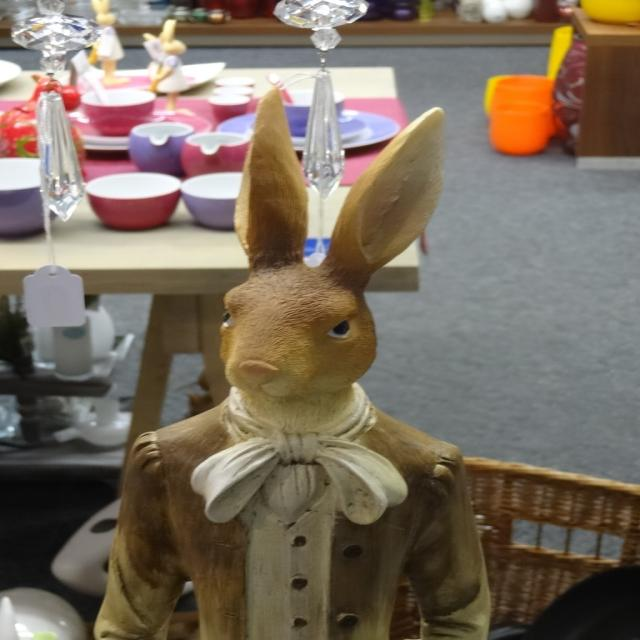Toy: (90, 59, 513, 616), (0, 73, 85, 158), (143, 20, 185, 114), (89, 0, 126, 85)
